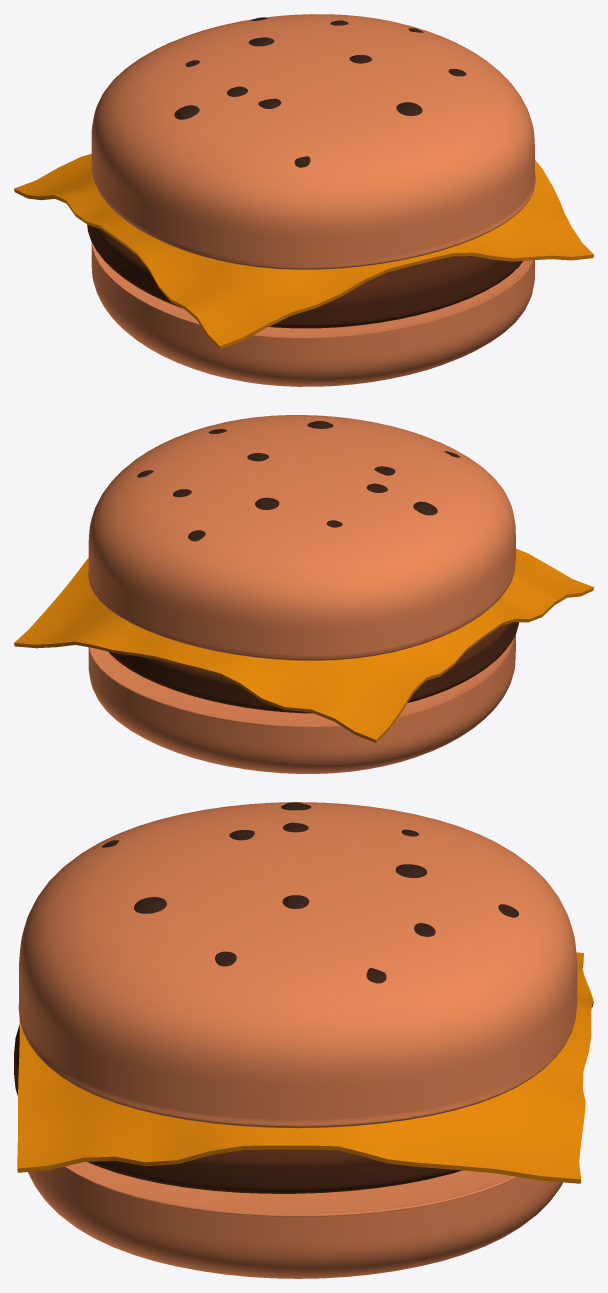
The model's file is hamburger.glb.
3 renders of one model, top to bottom at view 1: azimuth 30°, elevation 25°; view 2: azimuth 150°, elevation 25°; view 3: azimuth 270°, elevation 25°, orthographic. The views are drawn at different scales.
Parts seen in each view (by area): view 1: Cube.002, Cube, Plane, Cube.001; view 2: Cube.002, Plane, Cube, Cube.001; view 3: Cube.002, Cube, Plane, Cube.001.
Part boxes in pixels (left/top/right/bottom): Cube.002: left=91, top=14, right=535, bottom=269; Cube: left=91, top=242, right=534, bottom=386; Plane: left=14, top=154, right=593, bottom=349; Cube.001: left=87, top=225, right=522, bottom=328; Cube.002: left=88, top=415, right=515, bottom=660; Plane: left=14, top=548, right=593, bottom=742; Cube: left=88, top=634, right=515, bottom=773; Cube.001: left=108, top=622, right=518, bottom=713; Cube.002: left=18, top=802, right=577, bottom=1128; Cube: left=28, top=1162, right=562, bottom=1278; Plane: left=17, top=952, right=593, bottom=1183; Cube.001: left=14, top=1024, right=462, bottom=1193.
Bounding box in the file's own units: 9.53 × 5.99 × 9.44.
